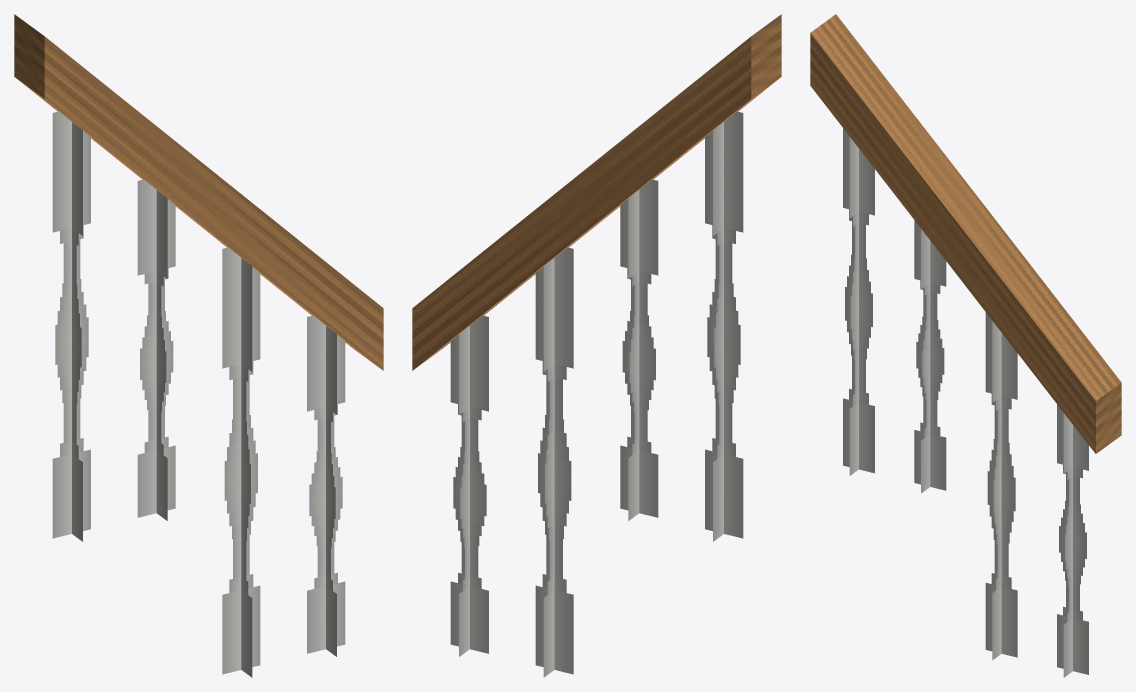
File: mid_neg.obj
The picture shows the model from 3 angles, left to right: view 1: azimuth 30°, elevation 25°; view 2: azimuth 150°, elevation 25°; view 3: azimuth 330°, elevation 25°; orthographic projection. The views are drawn at different scales.
Parts seen in each view (by area): view 1: railing_turned_oak_mid_neg; view 2: railing_turned_oak_mid_neg; view 3: railing_turned_oak_mid_neg.
Boxes of the visible parts, x1,y1,x2,y2 form: railing_turned_oak_mid_neg: [14, 14, 383, 677]; railing_turned_oak_mid_neg: [412, 14, 781, 677]; railing_turned_oak_mid_neg: [810, 14, 1121, 677].
Size of the model in its own units: 1 by 1.96 by 0.1562.
